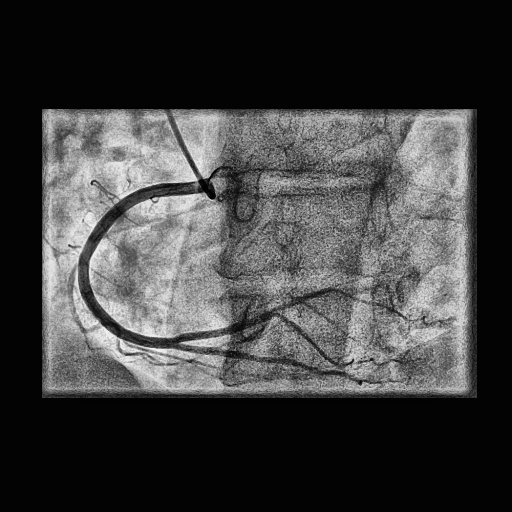pborca: (176, 287, 332, 343)
pda: (176, 344, 343, 375)
rca: (78, 182, 200, 349)
